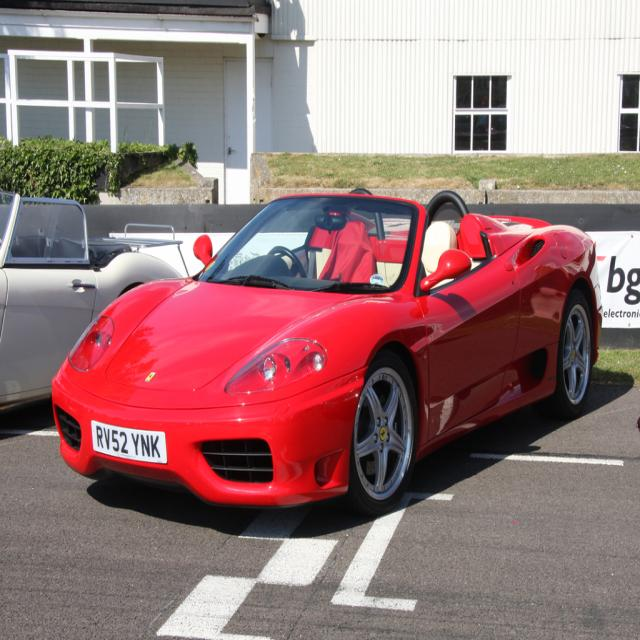car: (46, 183, 603, 521)
